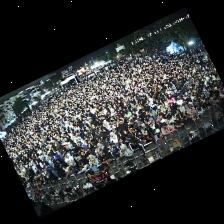person: (128, 138, 147, 159), (64, 153, 78, 173), (43, 162, 57, 177), (68, 145, 80, 162), (98, 150, 112, 164), (142, 129, 155, 143), (85, 146, 98, 160), (173, 115, 185, 129), (109, 132, 119, 148), (161, 123, 173, 135), (119, 145, 131, 157), (62, 164, 73, 177), (37, 168, 48, 181), (78, 159, 89, 172), (54, 167, 65, 179), (164, 106, 175, 118), (132, 127, 142, 140), (88, 155, 98, 168), (123, 129, 132, 142), (50, 152, 61, 162), (97, 138, 108, 148), (94, 129, 104, 140), (118, 137, 127, 149), (202, 98, 211, 110), (165, 114, 174, 126), (190, 111, 199, 122), (118, 119, 127, 130), (112, 146, 119, 160), (195, 103, 202, 117), (97, 144, 107, 153), (186, 103, 194, 114), (45, 158, 53, 169), (208, 98, 217, 107), (167, 95, 175, 105), (154, 130, 162, 139), (34, 176, 42, 185), (115, 129, 123, 138), (180, 113, 189, 121), (155, 119, 162, 129), (177, 103, 184, 113), (108, 142, 113, 156), (104, 177, 114, 184), (160, 103, 167, 113), (148, 118, 154, 129), (173, 110, 180, 119), (28, 179, 35, 187), (140, 124, 145, 135), (176, 96, 182, 105), (182, 101, 187, 110)
